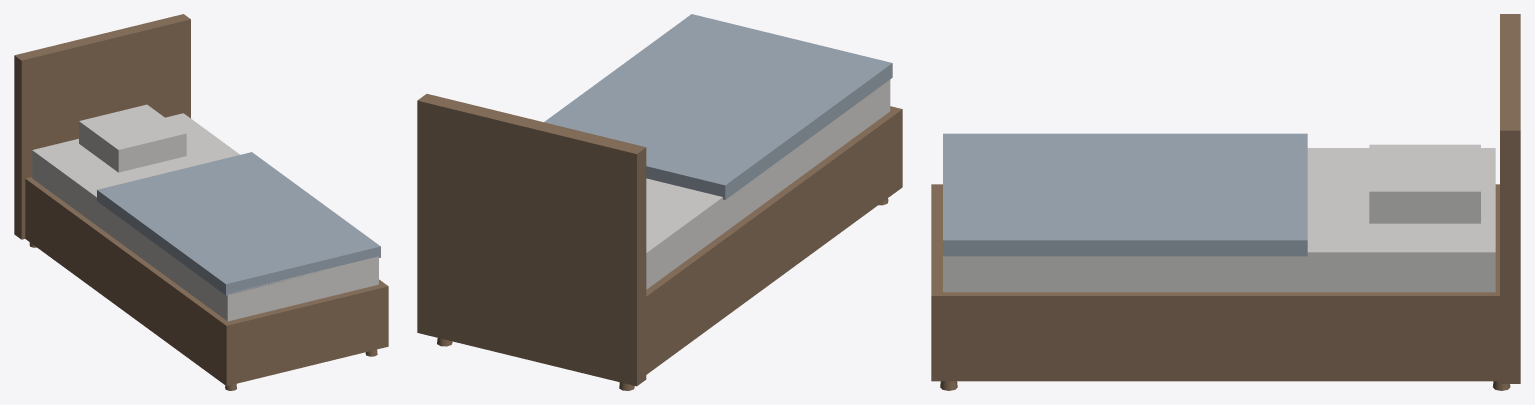
The model's file is 0965-Furniture-interiors-singleBed.glb.
3 renders of one model, left to right at view 1: azimuth 30°, elevation 25°; view 2: azimuth 150°, elevation 25°; view 3: azimuth 270°, elevation 25°, orthographic. The views are drawn at different scales.
Visible parts, largest first — view 1: Furniture (interiors)/singleBed; view 2: Furniture (interiors)/singleBed; view 3: Furniture (interiors)/singleBed.
Part boxes in pixels (left/top/right/bottom): Furniture (interiors)/singleBed: left=14, top=14, right=388, bottom=390; Furniture (interiors)/singleBed: left=417, top=14, right=902, bottom=390; Furniture (interiors)/singleBed: left=931, top=14, right=1520, bottom=390.
Size of the model in its own units: 0.94 by 1 by 2.
